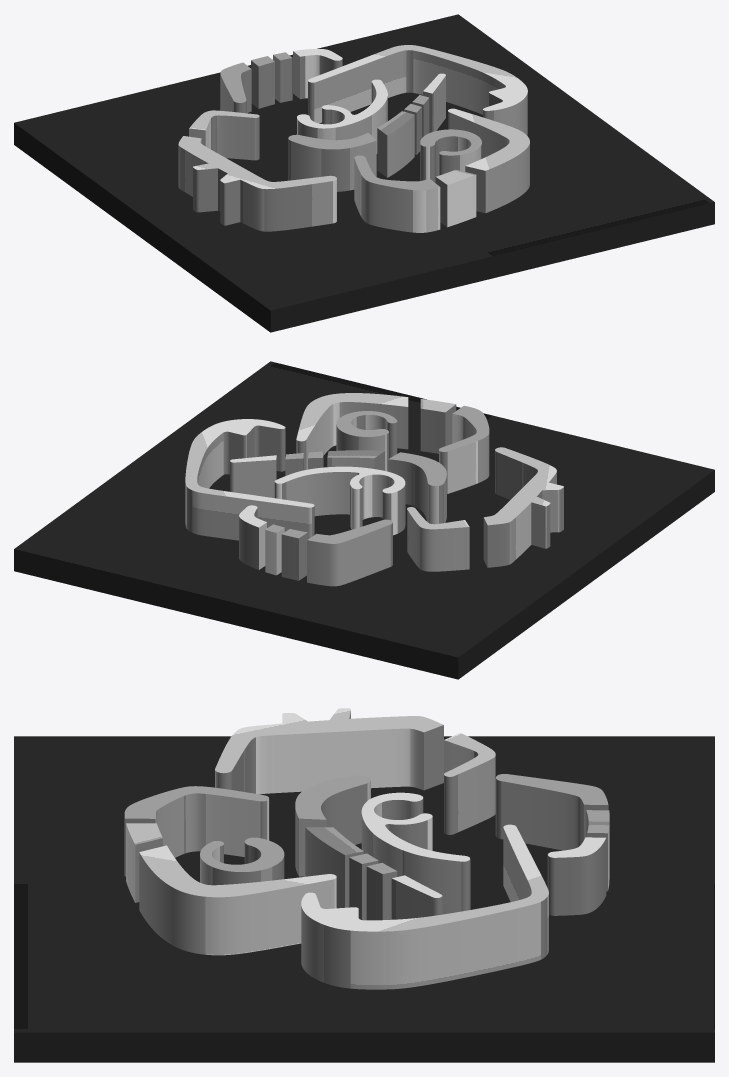
The model's file is maze.glb.
The picture shows the model from 3 angles, top to bottom: view 1: azimuth 30°, elevation 25°; view 2: azimuth 150°, elevation 25°; view 3: azimuth 270°, elevation 25°; orthographic projection. The views are drawn at different scales.
Parts seen in each view (by area): view 1: arc_1_navmesh; view 2: arc_1_navmesh; view 3: arc_1_navmesh.
Boxes of the visible parts, left/top/right/bottom form: arc_1_navmesh: left=14, top=14, right=714, bottom=332; arc_1_navmesh: left=14, top=361, right=714, bottom=679; arc_1_navmesh: left=14, top=708, right=714, bottom=1062.
Size of the model in its own units: 40 by 5.55 by 40.
1 material, 1 textured.
